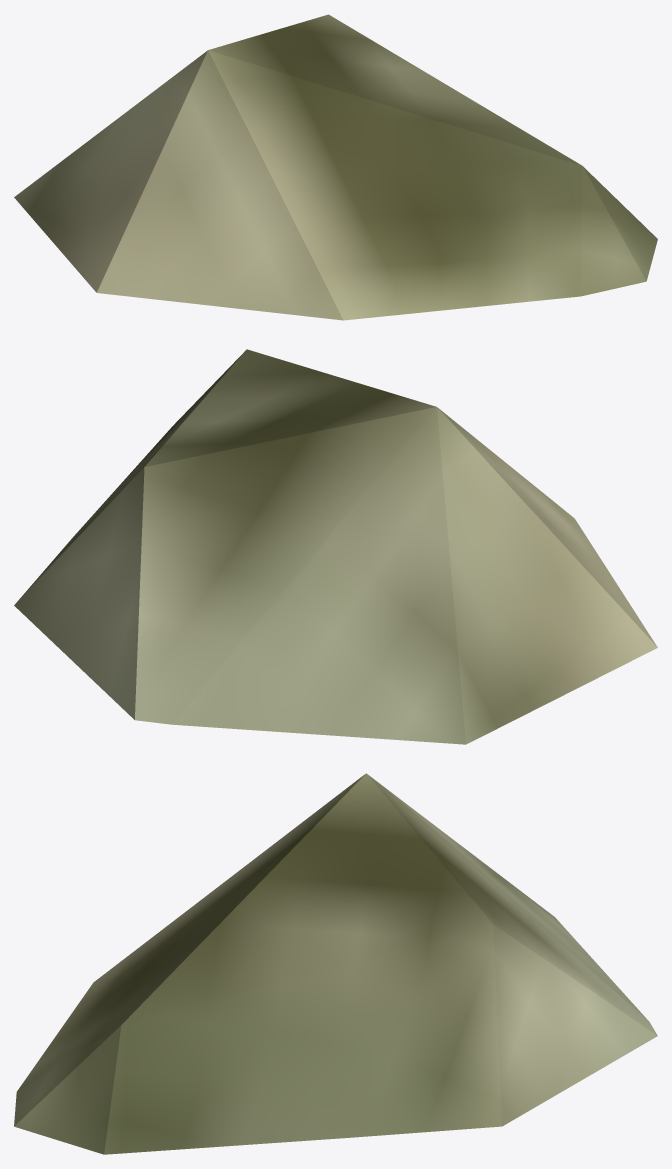
The picture shows the model from 3 angles, top to bottom: view 1: azimuth 30°, elevation 25°; view 2: azimuth 150°, elevation 25°; view 3: azimuth 270°, elevation 25°; orthographic projection. The views are drawn at different scales.
Size of the model in its own units: 0.2239 by 0.0823 by 0.237.
Materials: 1 (1 with a texture image).
